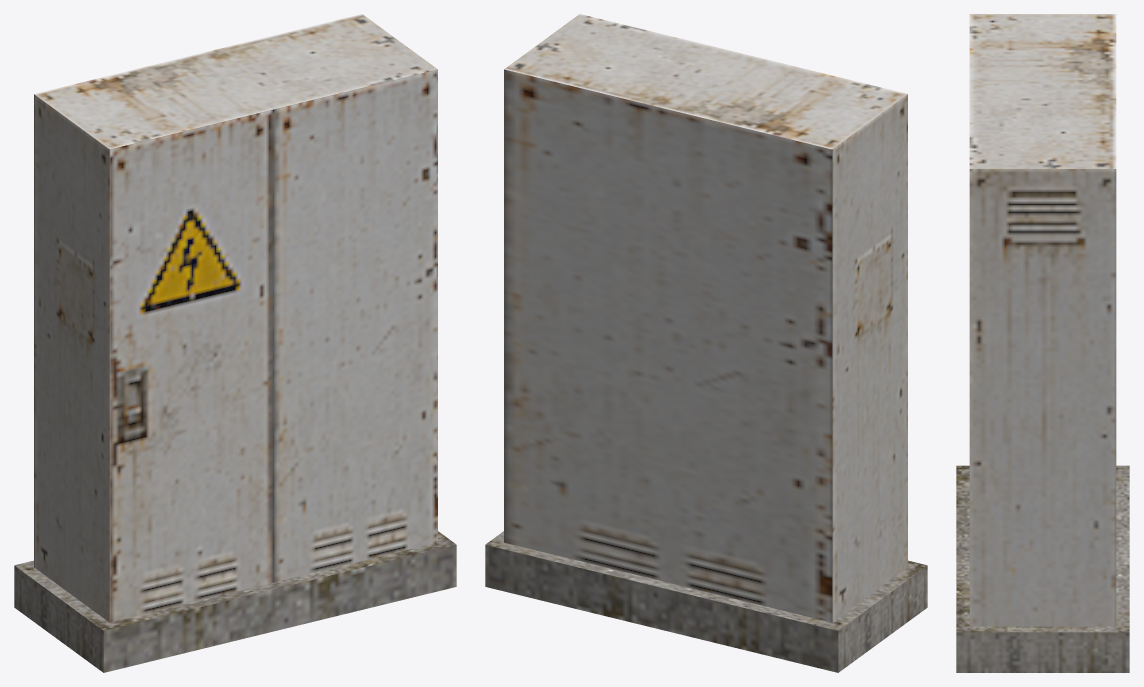
File: SM_ElectricityBox_01.fbx
The picture shows the model from 3 angles, left to right: view 1: azimuth 30°, elevation 25°; view 2: azimuth 150°, elevation 25°; view 3: azimuth 270°, elevation 25°; orthographic projection. The views are drawn at different scales.
Parts seen in each view (by area): view 1: Cube.003; view 2: Cube.003; view 3: Cube.003.
Boxes of the visible parts, bbox=[...] form: Cube.003: bbox=[14, 14, 456, 672]; Cube.003: bbox=[485, 14, 927, 672]; Cube.003: bbox=[956, 14, 1129, 672].
Bounding box in the file's own units: 108 × 150 × 47.23.
Materials: 1 (1 with a texture image).
